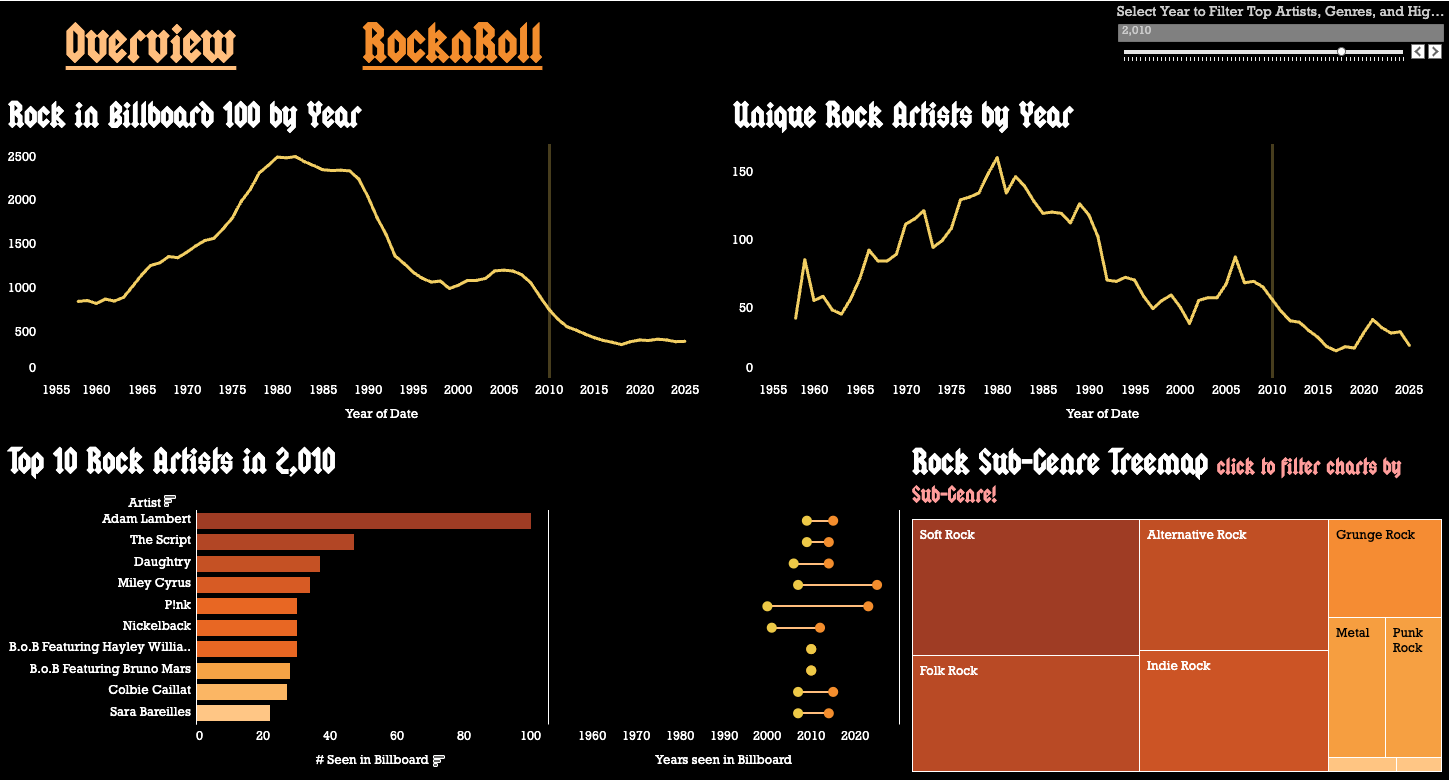

What the dashboard file says about the page in this screenshot:
{"tool":"tableau","page":{"name":"Rock","canvas":[1000,1000],"units":"permille","ordinal":1},"visuals":[{"type":"dashboard-object","box":[4.2,7.9,206.7,108.5]},{"type":"dashboard-object","box":[210.8,7.9,205.7,108.5]},{"type":"parameter","param":"[Parameters].[Parameter 1]","box":[766.2,7.9,229.7,108.5]},{"type":"worksheet","title":"Rock in Billboard 100 by Year","mark":"Automatic","cols":["date"],"box":[4.2,116.4,495.8,437.7]},{"type":"worksheet","title":"Unique Rock Artists by Year","mark":"Automatic","rows":["artist"],"cols":["date"],"box":[500,116.4,495.8,437.7]},{"type":"worksheet","title":"Top 10 Rock Artists per Year ","mark":"Bar","rows":["artist"],"cols":["master.csv_A41D26C67C6042FA99C40036D16CB489","Calculation_5160784004489226"],"box":[4.2,554.1,619,438]},{"type":"worksheet","title":"Rock Sub-Genre Treemap","mark":"Automatic","box":[623.2,554.1,372.7,438]}]}

Visuals, with their boxes on the dashboard's canvas, which has no fixed pixel size, in thousandths of its width and height (x1, y1, x2, y2). These are canvas units, not pixel positions in the 1449x781 screenshot, which may show the page scaled, cropped or inside an application window:
dashboard-object: left=4, top=8, right=211, bottom=116
dashboard-object: left=211, top=8, right=416, bottom=116
parameter: left=766, top=8, right=996, bottom=116
"Rock in Billboard 100 by Year" worksheet: left=4, top=116, right=500, bottom=554
"Unique Rock Artists by Year" worksheet: left=500, top=116, right=996, bottom=554
"Top 10 Rock Artists per Year " worksheet (Bar marks): left=4, top=554, right=623, bottom=992
"Rock Sub-Genre Treemap" worksheet: left=623, top=554, right=996, bottom=992
